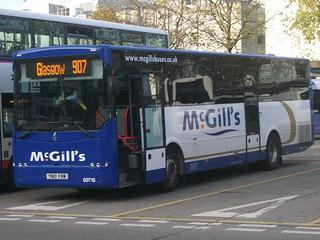car: (19, 58, 298, 176)
